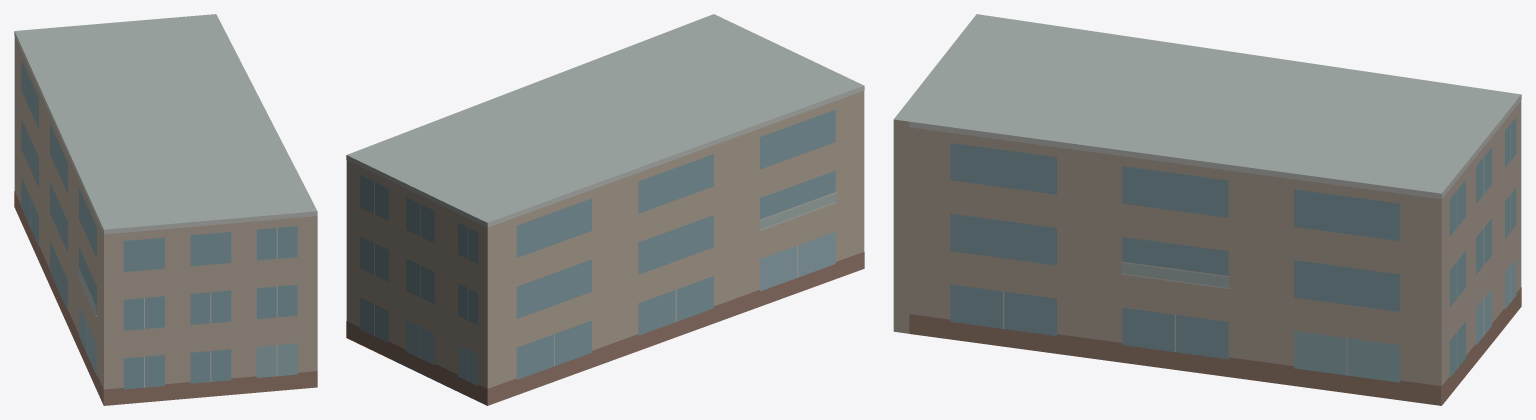
The model's file is survey-upis-32880194.glb.
The picture shows the model from 3 angles, left to right: view 1: azimuth 30°, elevation 25°; view 2: azimuth 150°, elevation 25°; view 3: azimuth 270°, elevation 25°; orthographic projection. The views are drawn at different scales.
Parts seen in each view (by area): view 1: survey-upis-32880194.tmp; view 2: survey-upis-32880194.tmp; view 3: survey-upis-32880194.tmp.
Part boxes in pixels (left/top/right/bottom): survey-upis-32880194.tmp: left=14, top=14, right=317, bottom=405; survey-upis-32880194.tmp: left=346, top=14, right=864, bottom=405; survey-upis-32880194.tmp: left=893, top=14, right=1521, bottom=405.
Size of the model in its own units: 16.62 by 9.15 by 24.54.
